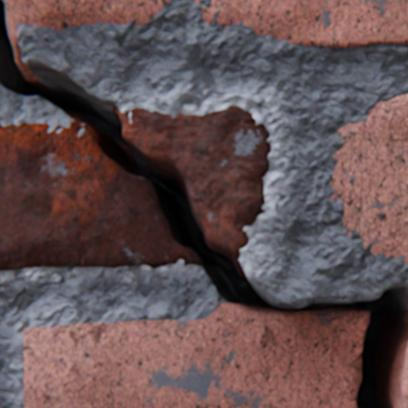brick: (329, 95, 407, 264), (6, 0, 172, 75), (203, 0, 407, 49), (195, 0, 201, 4)
broken_brick: (25, 303, 368, 407), (0, 119, 203, 270), (114, 106, 270, 276), (391, 325, 407, 407)
crack: (0, 0, 407, 407)
